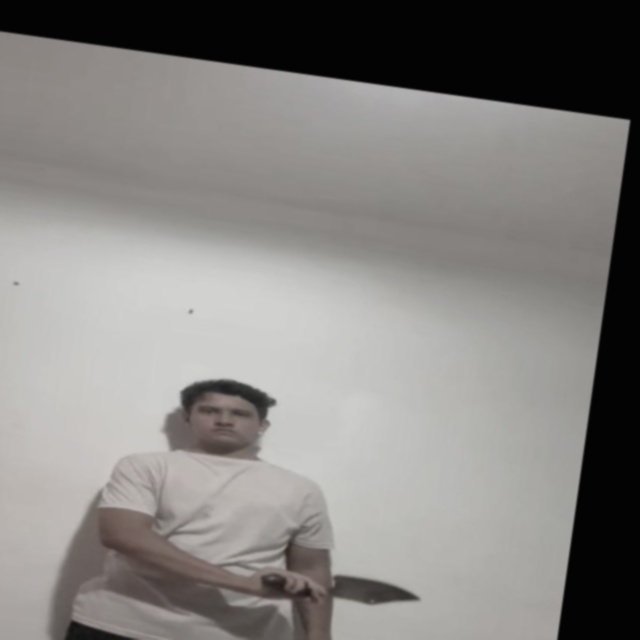Sharp-Object: (329, 572, 424, 614)
